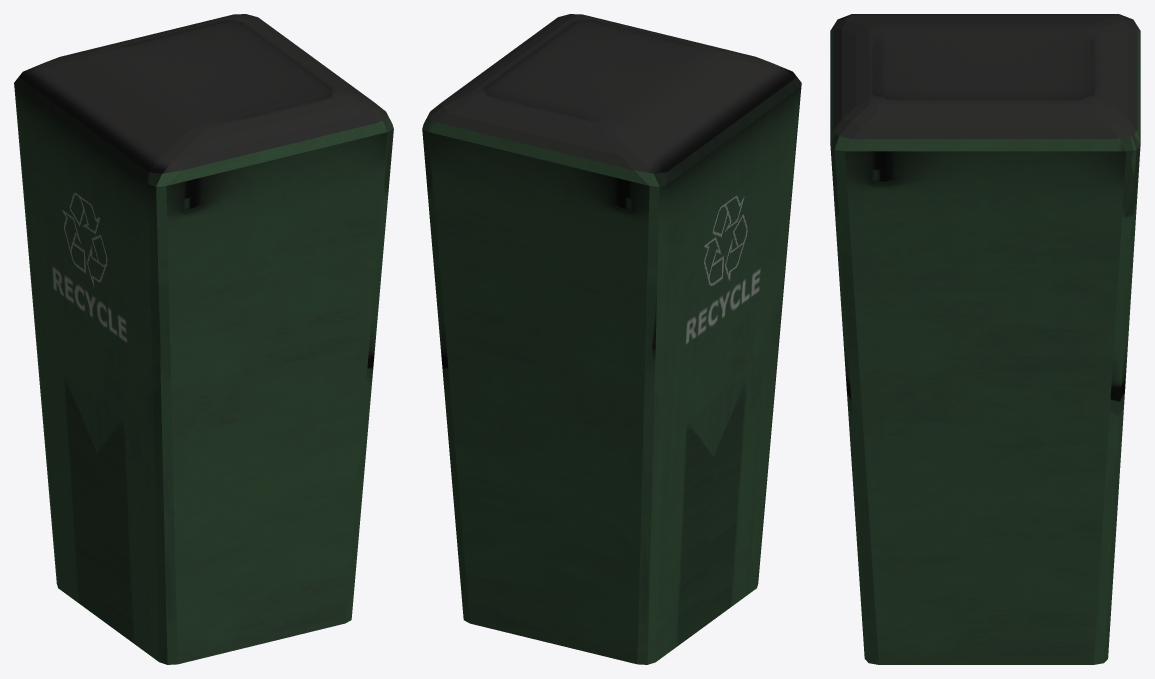
File: waste-bin-120l-blue_LOD1.gltf
The picture shows the model from 3 angles, left to right: view 1: azimuth 30°, elevation 25°; view 2: azimuth 150°, elevation 25°; view 3: azimuth 270°, elevation 25°; orthographic projection. The views are drawn at different scales.
Parts seen in each view (by area): view 1: Cube; view 2: Cube; view 3: Cube.
Boxes of the visible parts, x1,y1,x2,y2 form: Cube: (14,14,393,664); Cube: (422,14,801,664); Cube: (830,14,1140,664).
Bounding box in the file's own units: 0.3854 × 0.7938 × 0.3987.
1 material, 1 textured.
